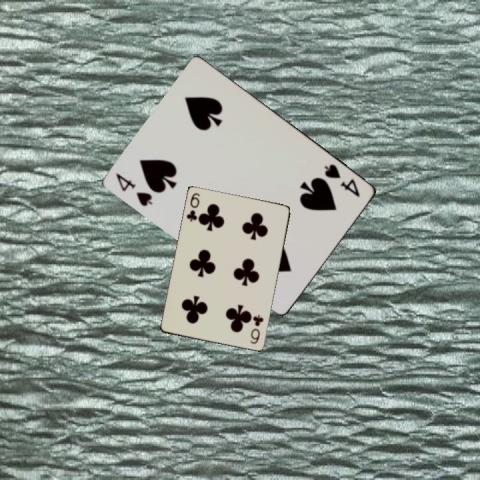4s: (113, 170, 155, 208), (321, 160, 362, 198)
6c: (247, 312, 265, 345), (184, 190, 202, 223)
